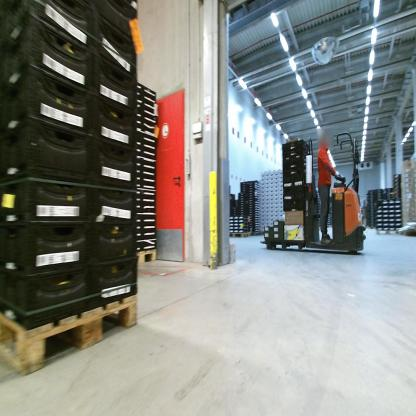pallet: (1, 287, 136, 380), (134, 245, 160, 271), (226, 229, 252, 243), (376, 227, 403, 237), (250, 229, 260, 238)
pallet_truck: (265, 132, 375, 259)
